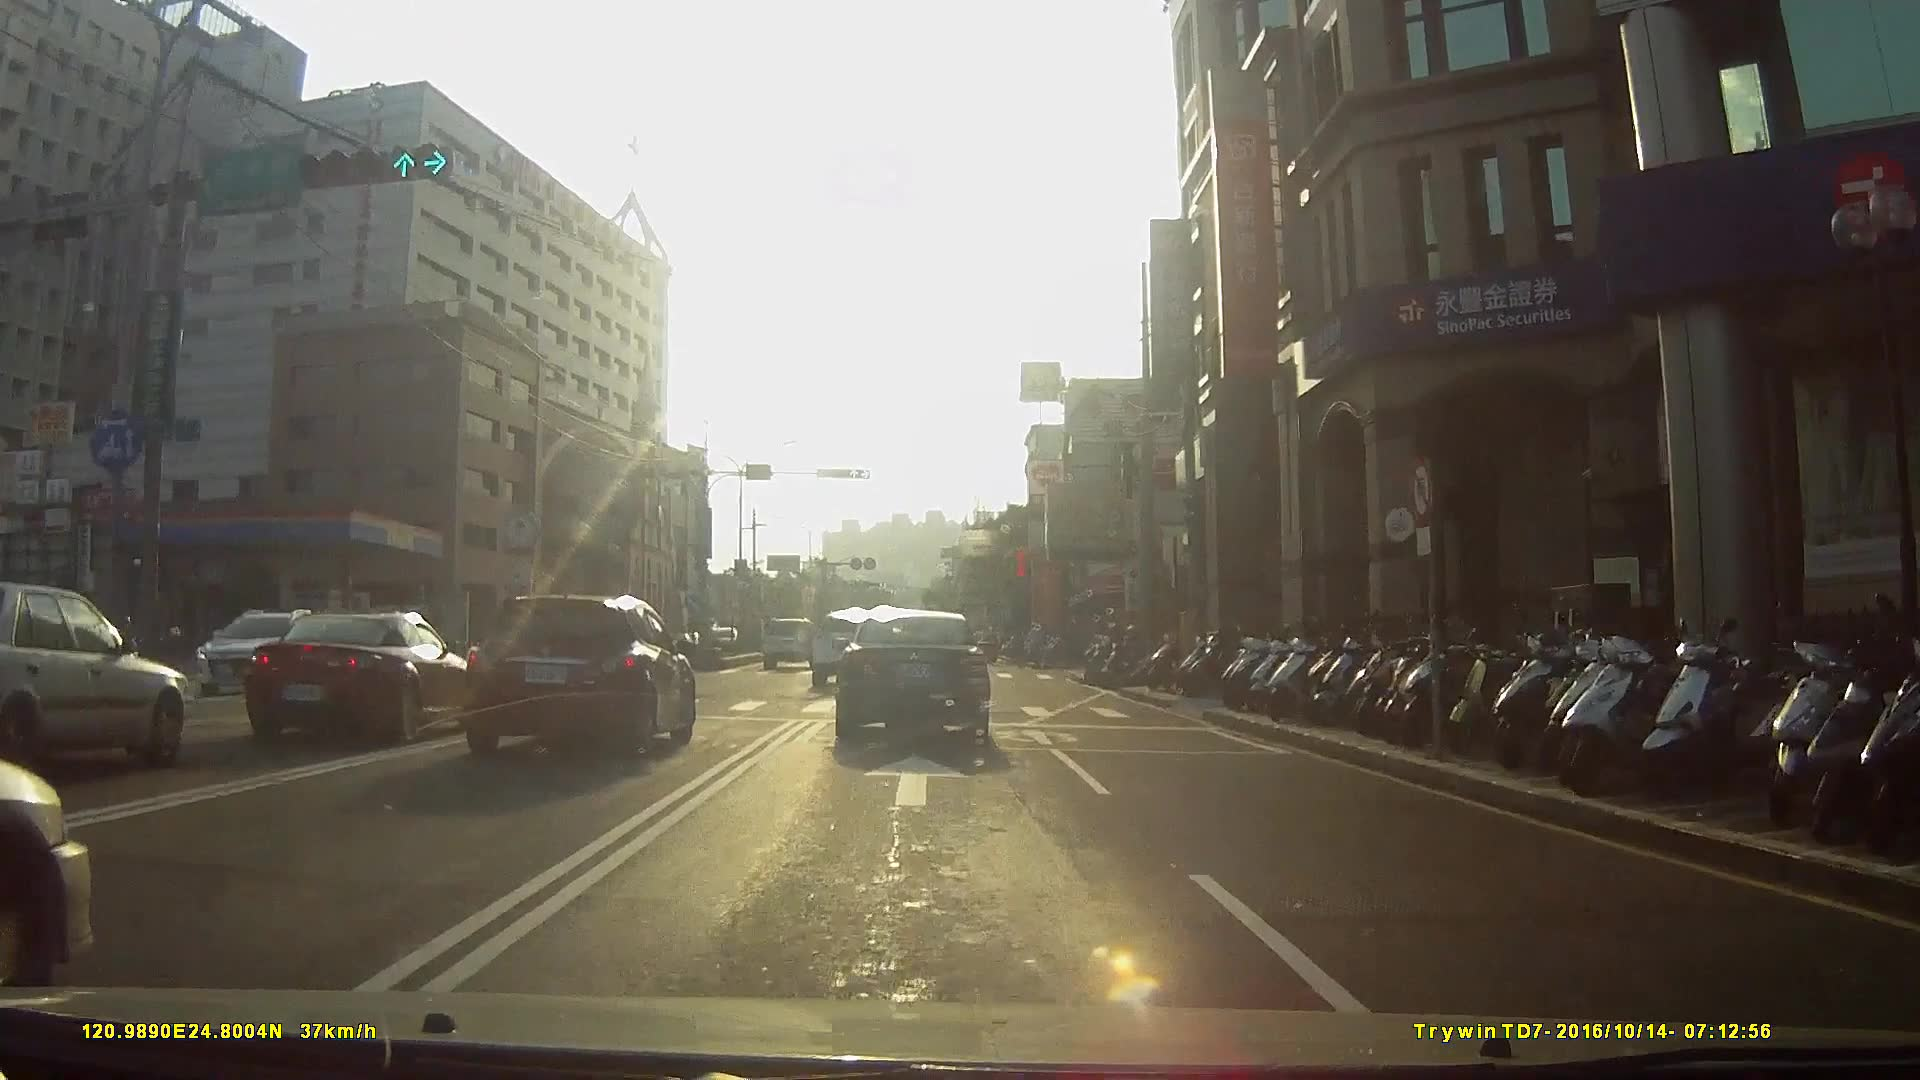rider: (1095, 621, 1169, 685)
vehicle: (453, 583, 710, 762), (219, 605, 486, 758), (1, 577, 201, 779), (829, 606, 1004, 751), (165, 603, 343, 702), (810, 607, 889, 691), (762, 617, 821, 672)
